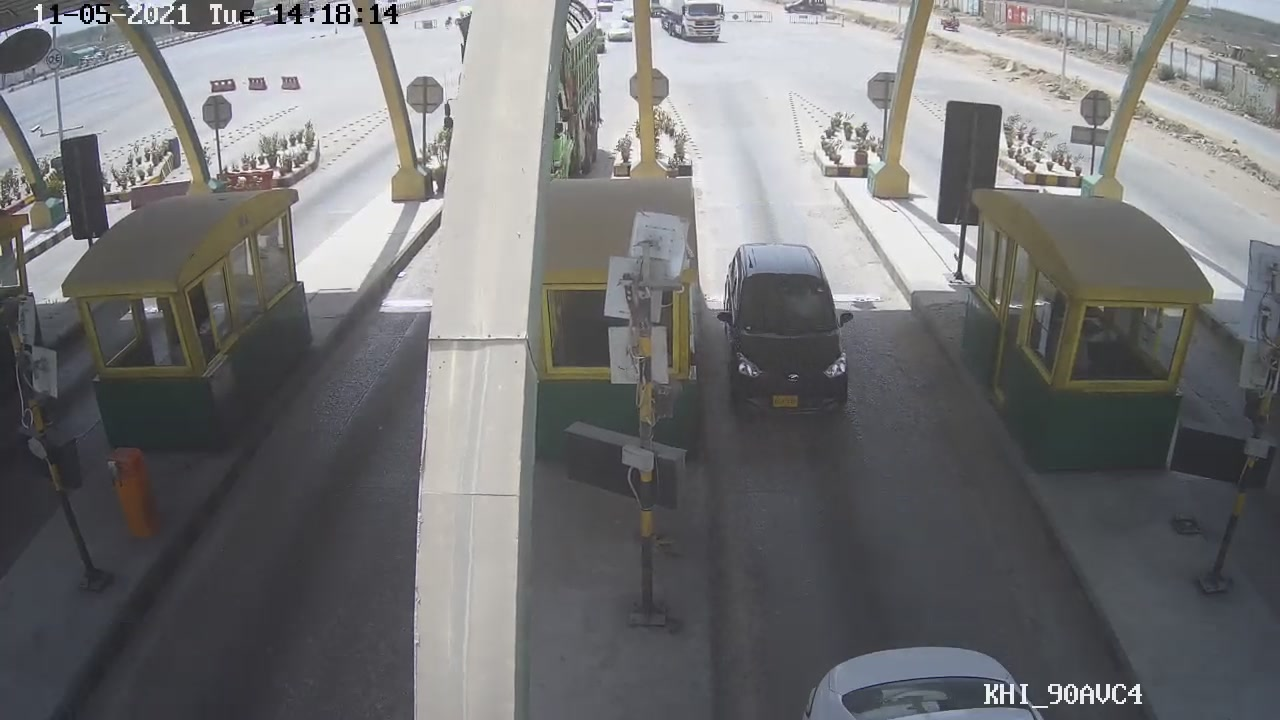F1: (714, 237, 862, 417)
